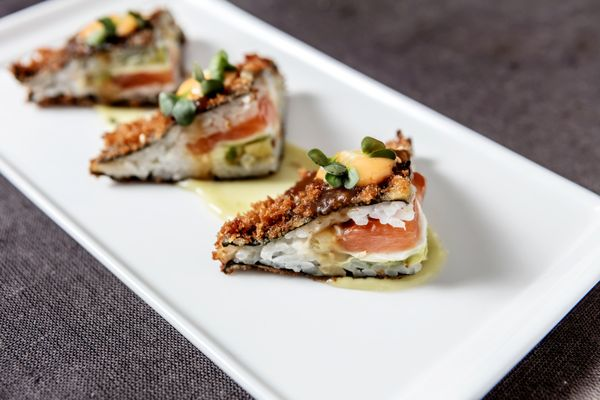soup: (211, 131, 429, 279)
